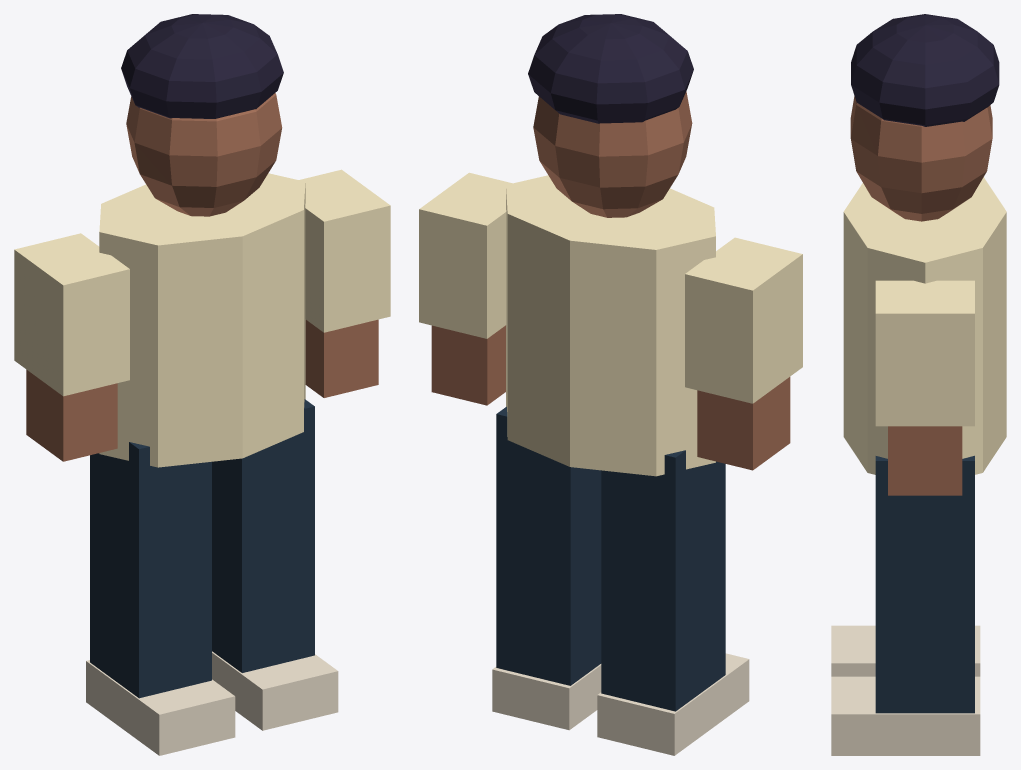
The model's file is character-contact.obj.
3 renders of one model, left to right at view 1: azimuth 30°, elevation 25°; view 2: azimuth 150°, elevation 25°; view 3: azimuth 270°, elevation 25°, orthographic.
Visible parts, largest first — view 1: character-contact; view 2: character-contact; view 3: character-contact.
Part boxes in pixels (bbox=[...]): character-contact: bbox=[14, 14, 390, 755]; character-contact: bbox=[419, 14, 802, 755]; character-contact: bbox=[831, 14, 1006, 755].
Bounding box in the file's own units: 1.08 × 2.14 × 0.495.
